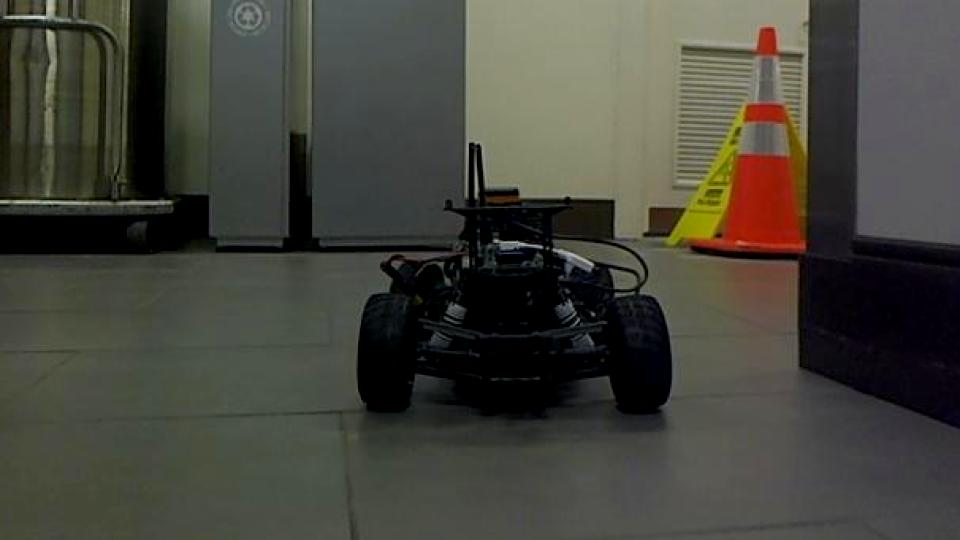car: (352, 139, 675, 418)
